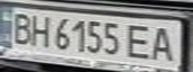1: (66, 17, 87, 53)
5: (100, 19, 127, 57), (84, 18, 106, 55)
6: (51, 16, 72, 52)
A: (148, 24, 181, 63)
B: (6, 10, 36, 46)
E: (124, 21, 157, 61)
H: (27, 11, 54, 48)
